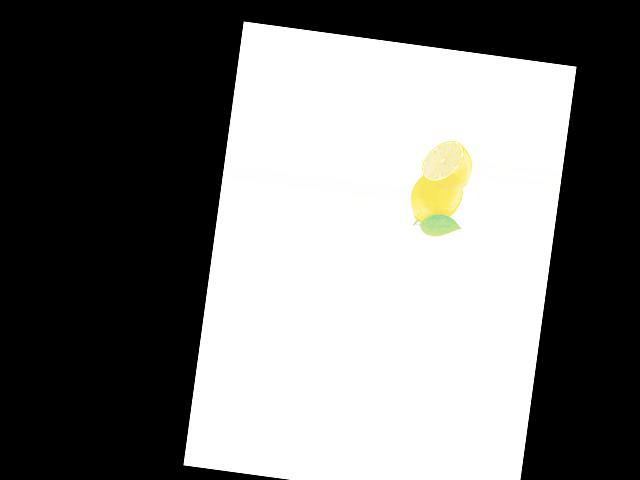lemon: (406, 173, 466, 232)
